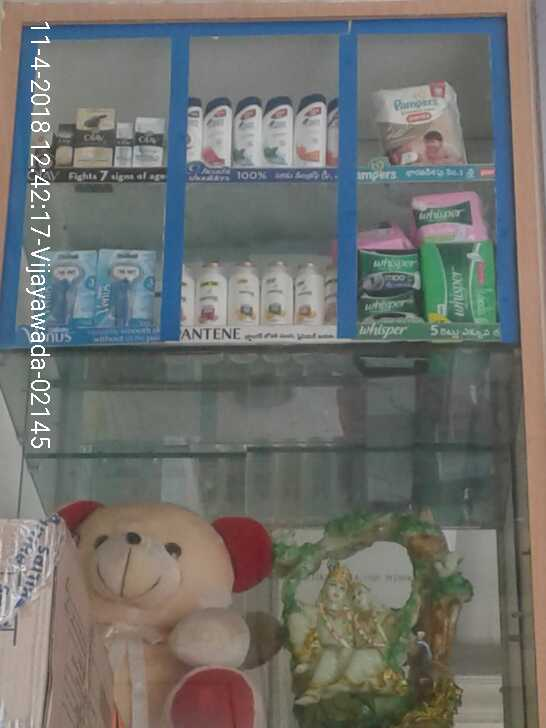venus: (98, 248, 156, 342), (37, 249, 95, 343)
